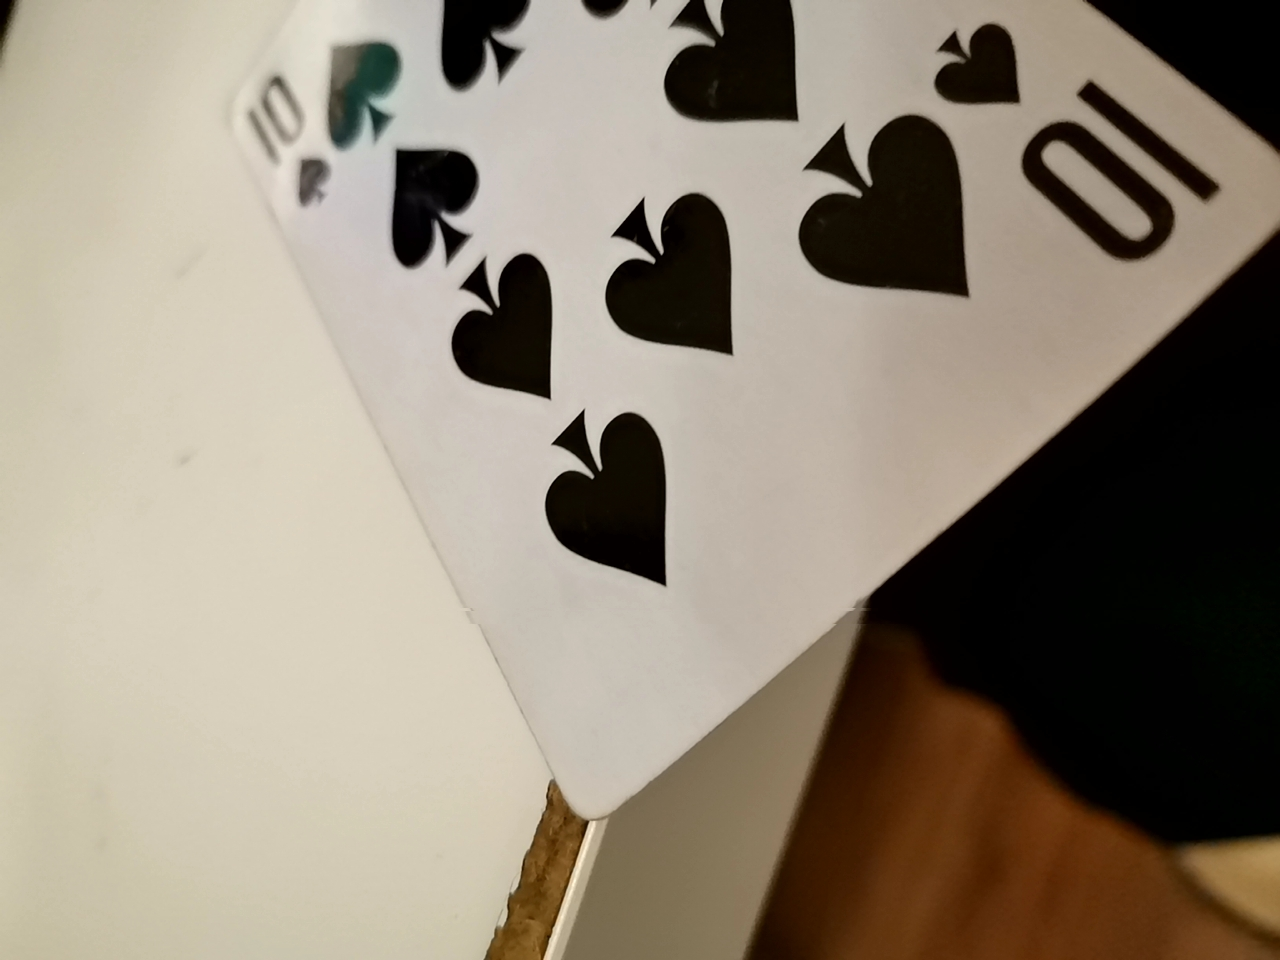ht 10: (155, 8, 1257, 843)
